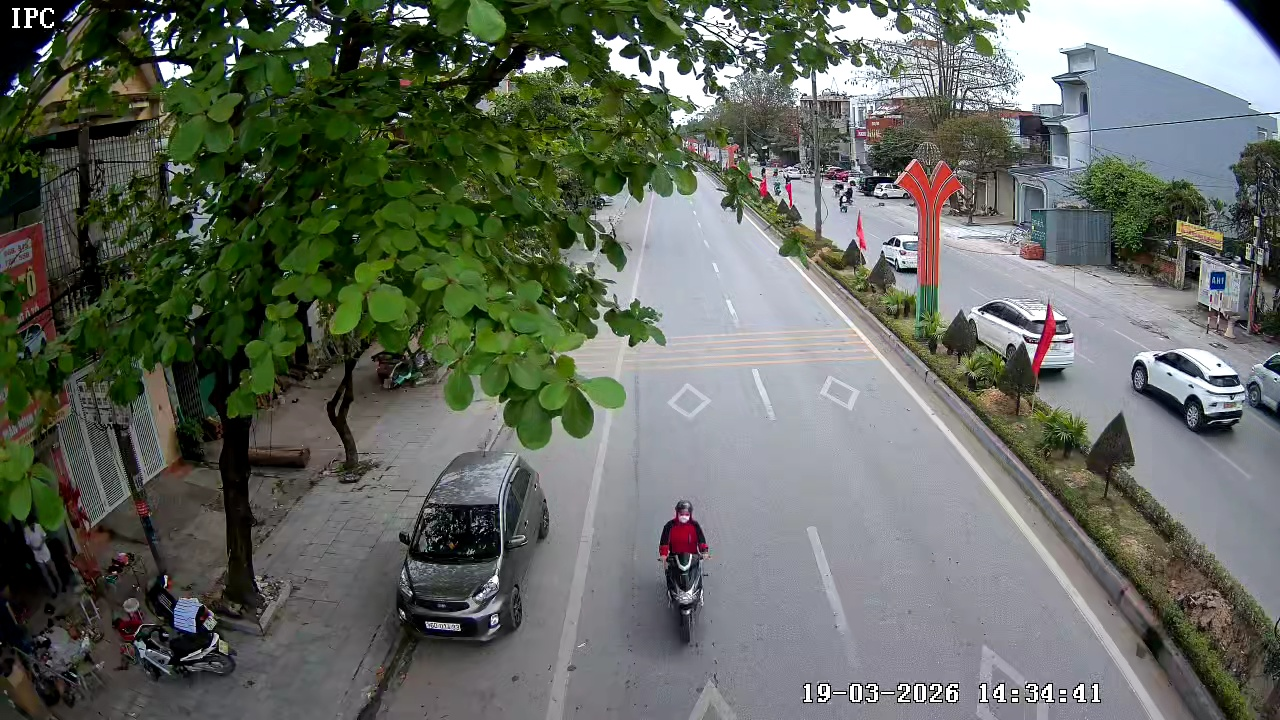car: (394, 449, 552, 642), (1129, 346, 1246, 433), (957, 295, 1075, 376), (1247, 345, 1279, 430)
motorbike: (655, 497, 713, 645)
